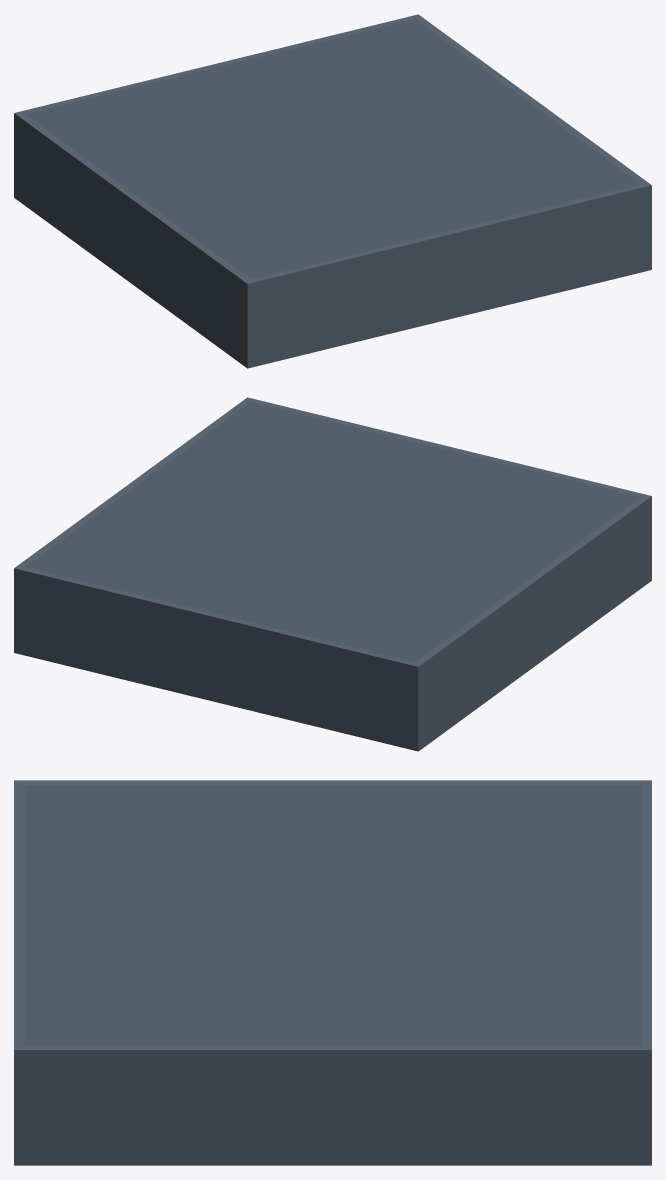
File: ConcrateSlabs_C_4_1.fbx
The picture shows the model from 3 angles, top to bottom: view 1: azimuth 30°, elevation 25°; view 2: azimuth 150°, elevation 25°; view 3: azimuth 270°, elevation 25°; orthographic projection. The views are drawn at different scales.
Visible parts, largest first — view 1: ConcrateSlabs_C_4_1; view 2: ConcrateSlabs_C_4_1; view 3: ConcrateSlabs_C_4_1.
Part boxes in pixels (box(x1,y1,x2,y2)): ConcrateSlabs_C_4_1: box(14, 14, 651, 368); ConcrateSlabs_C_4_1: box(14, 397, 651, 751); ConcrateSlabs_C_4_1: box(14, 780, 651, 1165).
Bounding box in the file's own units: 200 × 40 × 200.
